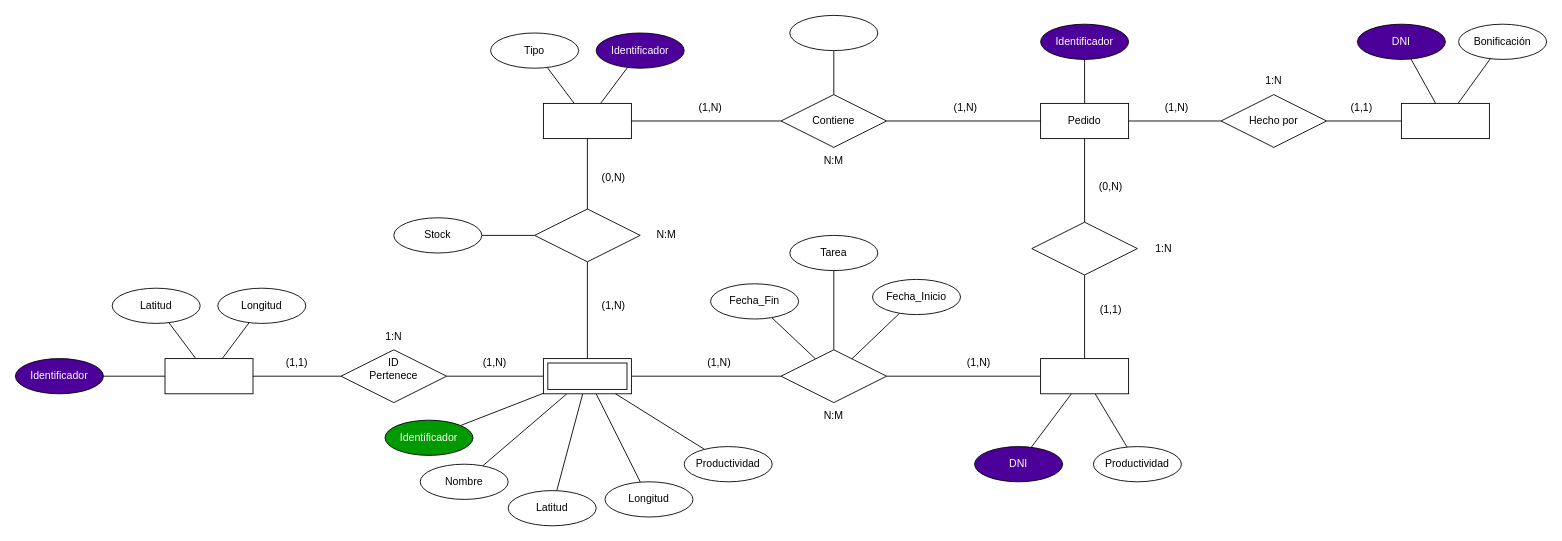
This 1562x541 diagram has some shape labels left out. The shapes that lost their labels are listed below. From the top down, each one's centre as x and y in pixels, then its label:
At [833,33]: "Cantidad".
At [587,121]: "Producto".
At [1445,121]: "Cliente".
At [587,235]: "Asignado".
At [1084,248]: "Gestiona".
At [208,376]: "Vivero".
At [587,376]: "Zona".
At [833,376]: "Destinado".
At [1084,376]: "Empleado".
